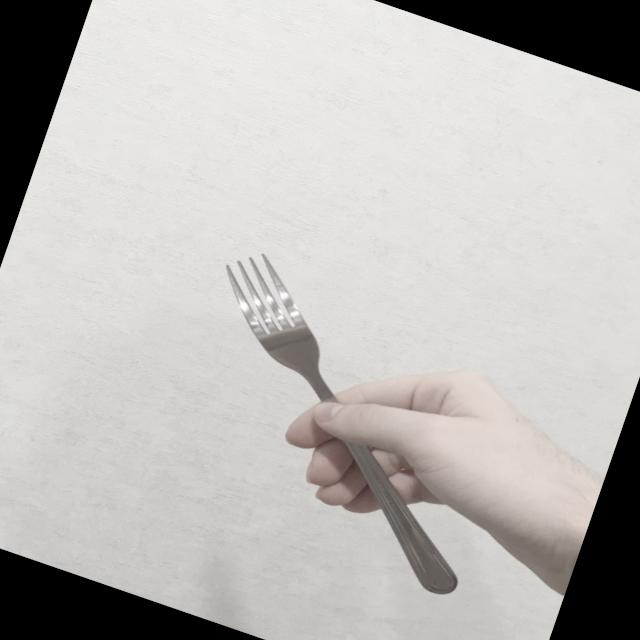fork: (145, 242, 542, 602)
